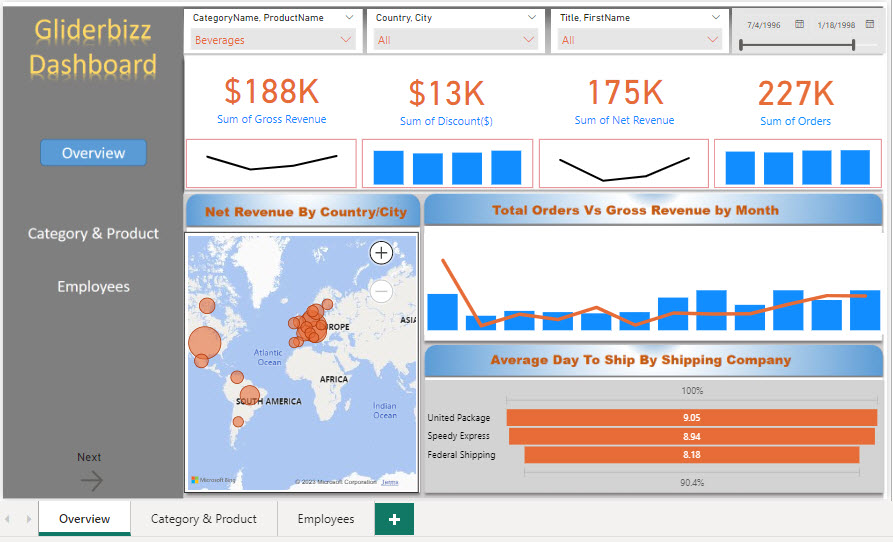

This screenshot's page, from the dashboard's own definition file:
{"tool":"powerbi","page":{"name":"Overview","canvas":[1280,720],"ordinal":0},"visuals":[{"type":"slicer","fields":{"Values":["Product.CategoryName","Product.ProductName"]},"box":[262,10.1,258.7,63.8],"z":0},{"type":"slicer","fields":{"Values":["Order_Details.Country","Order_Details.City"]},"box":[527.6,10.6,258.5,63.7],"z":1000},{"type":"slicer","fields":{"Values":["Order_Details.Title","Order_Details.FirstName"]},"box":[794.9,10.6,258.5,63.7],"z":2000},{"type":"slicer","fields":{"Values":["Order_Details.OrderDate"]},"box":[1056.9,8.9,223.1,65.5],"z":3000},{"type":"card","fields":{"Values":["Order_Details.Gross Revenue"]},"box":[276.8,85.5,224.6,97.1],"z":4000},{"type":"lineChart","fields":{"Category":["Order_Details.OrderDate.Variation.Date Hierarchy.Quarter"],"Y":["Order_Details.Gross Revenue"]},"box":[265.2,198.6,247,71],"z":5000},{"type":"card","fields":{"Values":["Order_Details.Discount($)"]},"box":[513,88.4,259.4,97.1],"z":6000},{"type":"clusteredColumnChart","fields":{"Category":["Order_Details.OrderDate.Variation.Date Hierarchy.Quarter"],"Y":["Order_Details.Gross Revenue"]},"box":[520.3,198.6,247.8,71],"z":7000},{"type":"card","fields":{"Values":["Order_Details.Net Revenue"]},"box":[771,87,259.4,97.1],"z":8000},{"type":"lineChart","fields":{"Category":["Order_Details.OrderDate.Variation.Date Hierarchy.Quarter"],"Y":["Order_Details.Gross Revenue"]},"box":[776.8,198.6,246.4,71],"z":9000},{"type":"card","fields":{"Values":["Order_Details.Orders"]},"box":[1036.2,88.4,224.6,97.1],"z":10000},{"type":"clusteredColumnChart","fields":{"Category":["Order_Details.OrderDate.Variation.Date Hierarchy.Quarter"],"Y":["Order_Details.Orders"]},"box":[1030.4,198.6,243.5,71],"z":11000},{"type":"map","fields":{"Category":["Order_Details.Country","Order_Details.City"],"Size":["Order_Details.Net Revenue"]},"box":[262,332.8,339.9,378],"z":12000},{"type":"lineStackedColumnComboChart","fields":{"Y":["Order_Details.Orders"],"Category":["Order_Details.OrderDate.Variation.Date Hierarchy.Month"],"Y2":["Order_Details.Gross Revenue"]},"box":[609.9,334.1,666.5,146.7],"z":13000},{"type":"funnel","fields":{"Category":["Order_Details.Shipper Company"],"Y":["Order_Details.Day to Ship"]},"box":[609.9,548.1,666.5,162.7],"z":14000},{"type":"actionButton","box":[55.2,389,174,43.9],"z":15000},{"type":"actionButton","box":[26.9,309.8,213.6,43.9],"z":16000},{"type":"actionButton","box":[55.2,195.2,152.8,43.9],"z":17000},{"type":"actionButton","title":"Next","box":[107.5,649.3,48.1,66.5],"z":18000}]}

Visuals, with their boxes on the page's 1280x720 design canvas (x1, y1, x2, y2). These are canvas units, not pixel positions in the 893x542 screenshot, which may show the page scaled, cropped or inside an application window:
slicer - Product.CategoryName x Product.ProductName: 262:10:521:74
slicer - Order_Details.Country x Order_Details.City: 528:11:786:74
slicer - Order_Details.Title x Order_Details.FirstName: 795:11:1053:74
slicer - Order_Details.OrderDate: 1057:9:1280:74
card - Order_Details.Gross Revenue: 277:86:501:183
lineChart - Order_Details.OrderDate.Variation.Date Hierarchy.Quarter x Order_Details.Gross Revenue: 265:199:512:270
card - Order_Details.Discount($): 513:88:772:186
clusteredColumnChart - Order_Details.OrderDate.Variation.Date Hierarchy.Quarter x Order_Details.Gross Revenue: 520:199:768:270
card - Order_Details.Net Revenue: 771:87:1030:184
lineChart - Order_Details.OrderDate.Variation.Date Hierarchy.Quarter x Order_Details.Gross Revenue: 777:199:1023:270
card - Order_Details.Orders: 1036:88:1261:186
clusteredColumnChart - Order_Details.OrderDate.Variation.Date Hierarchy.Quarter x Order_Details.Orders: 1030:199:1274:270
map - Order_Details.Country x Order_Details.City: 262:333:602:711
lineStackedColumnComboChart - Order_Details.Orders x Order_Details.OrderDate.Variation.Date Hierarchy.Month: 610:334:1276:481
funnel - Order_Details.Shipper Company x Order_Details.Day to Ship: 610:548:1276:711
actionButton: 55:389:229:433
actionButton: 27:310:240:354
actionButton: 55:195:208:239
"Next" actionButton: 108:649:156:716
